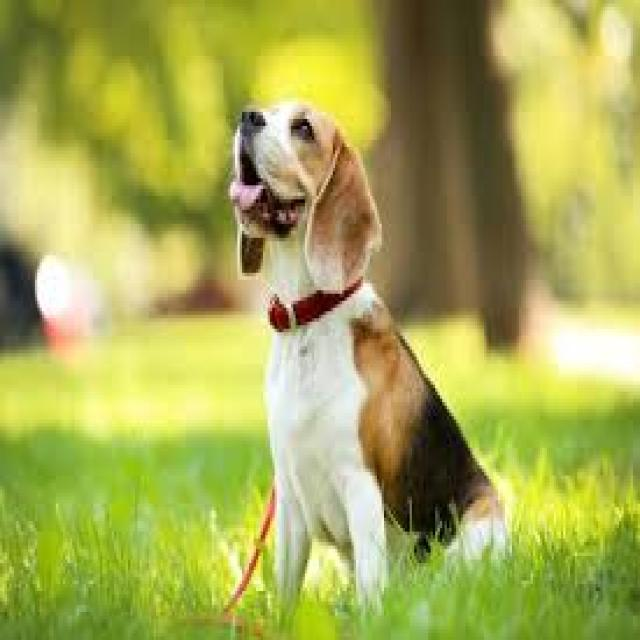Dog: (226, 93, 514, 618)
